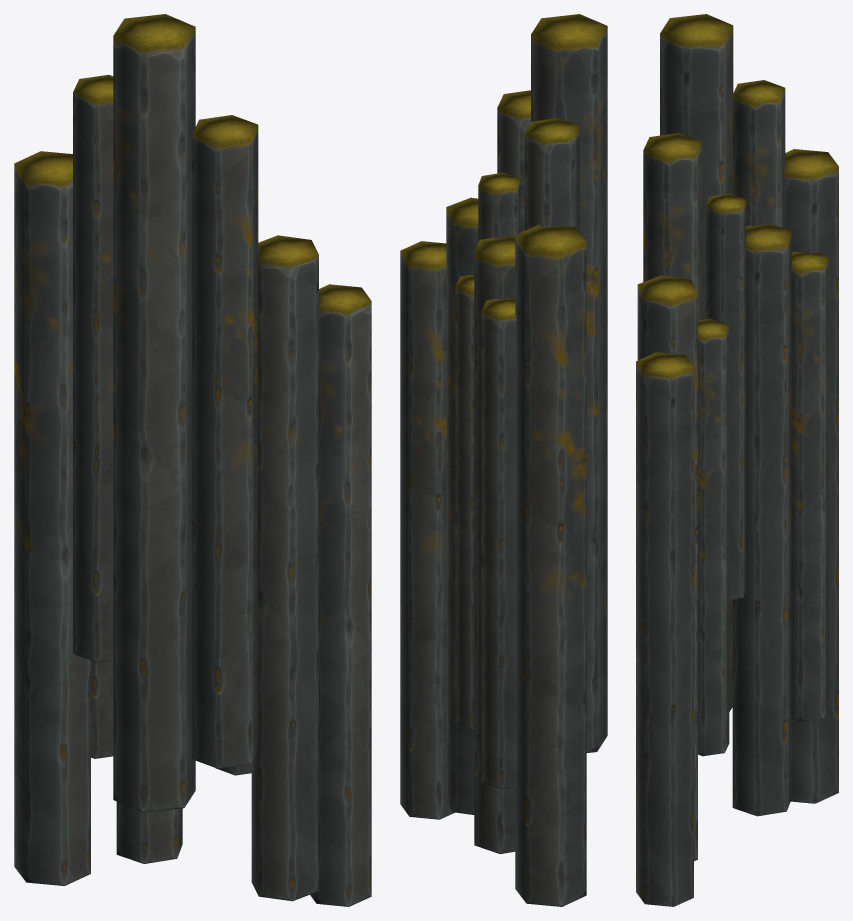
The model's file is SM_Pillar_Merged_03.glb.
The picture shows the model from 3 angles, left to right: view 1: azimuth 30°, elevation 25°; view 2: azimuth 150°, elevation 25°; view 3: azimuth 270°, elevation 25°; orthographic projection. The views are drawn at different scales.
Parts seen in each view (by area): view 1: SM_Pillar_Merged_03; view 2: SM_Pillar_Merged_03; view 3: SM_Pillar_Merged_03.
Boxes of the visible parts, left/top/right/bottom form: SM_Pillar_Merged_03: left=14, top=14, right=371, bottom=906; SM_Pillar_Merged_03: left=400, top=14, right=607, bottom=906; SM_Pillar_Merged_03: left=636, top=14, right=838, bottom=906.
Bounding box in the file's own units: 7.25 × 23.02 × 5.33.
1 material, 1 textured.
